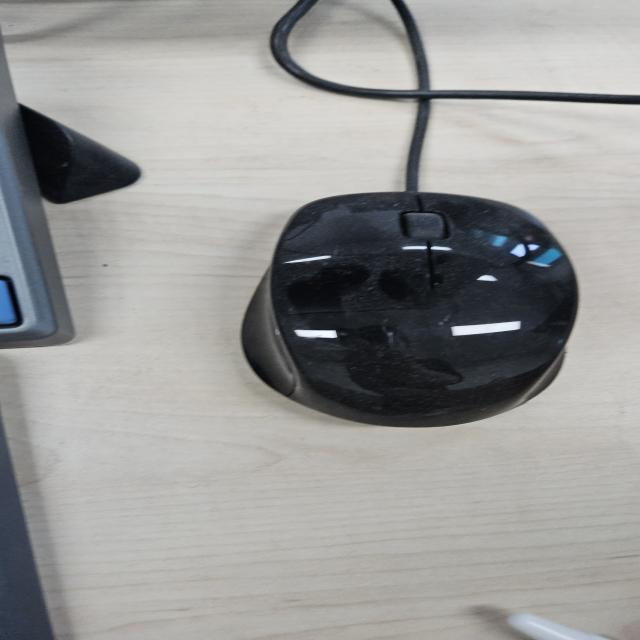Mouse: (237, 189, 582, 428)
